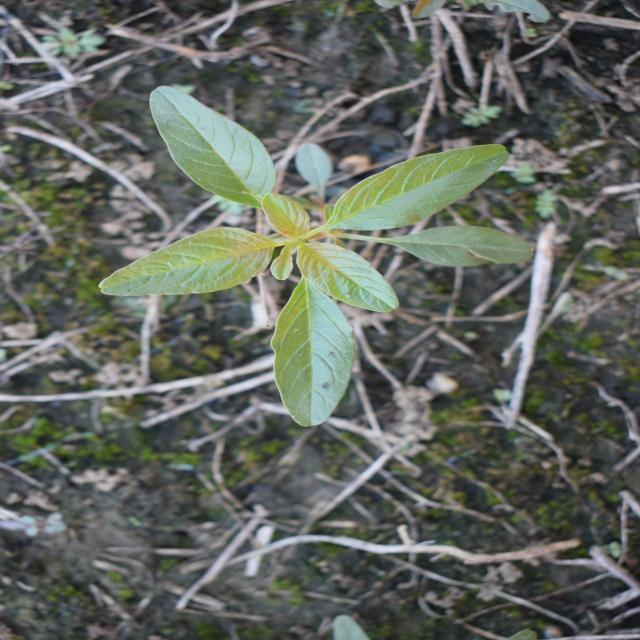Waterhemp: (95, 82, 538, 428)
